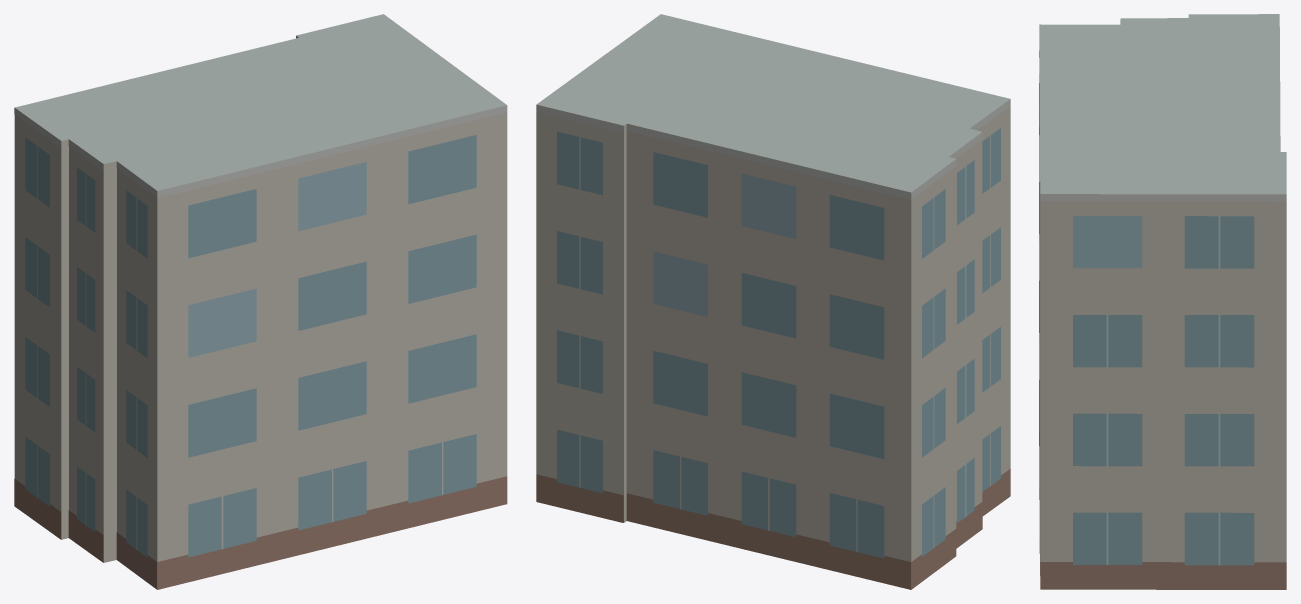
The model's file is survey-upis-32832476.glb.
3 renders of one model, left to right at view 1: azimuth 30°, elevation 25°; view 2: azimuth 150°, elevation 25°; view 3: azimuth 270°, elevation 25°, orthographic.
Visible parts, largest first — view 1: survey-upis-32832476.tmp; view 2: survey-upis-32832476.tmp; view 3: survey-upis-32832476.tmp.
Boxes of the visible parts, box(x1,y1,x2,y2) form: survey-upis-32832476.tmp: box(14, 14, 507, 589); survey-upis-32832476.tmp: box(536, 14, 1010, 589); survey-upis-32832476.tmp: box(1039, 14, 1286, 589).
Bounding box in the file's own units: 13.21 × 13.5 × 7.67.
